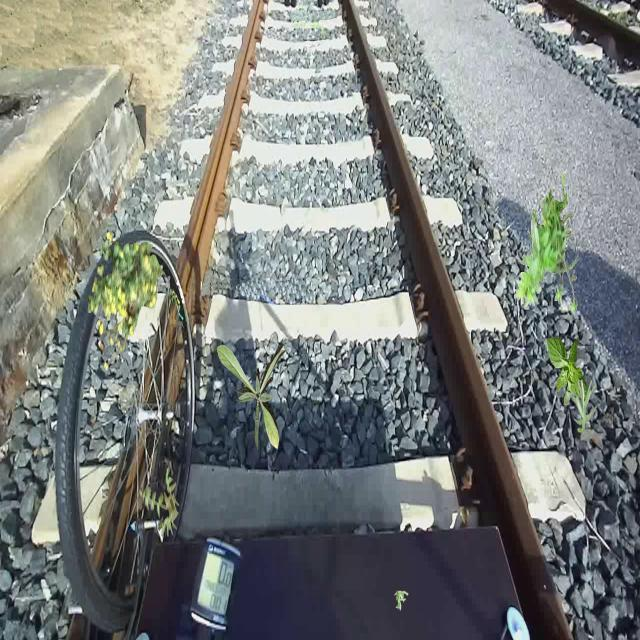Plant: (88, 231, 163, 371), (514, 173, 578, 316), (217, 343, 288, 451), (138, 466, 180, 538), (546, 335, 588, 406), (571, 377, 598, 434), (395, 590, 409, 610)
